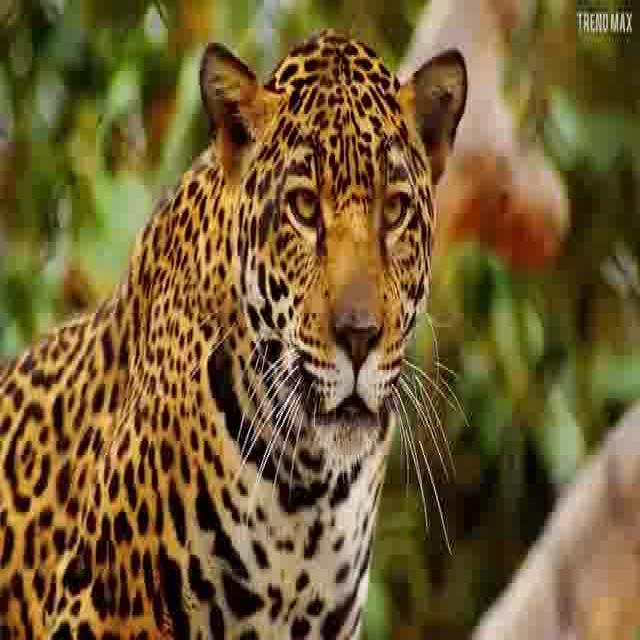Jaguar: (0, 28, 469, 640)
